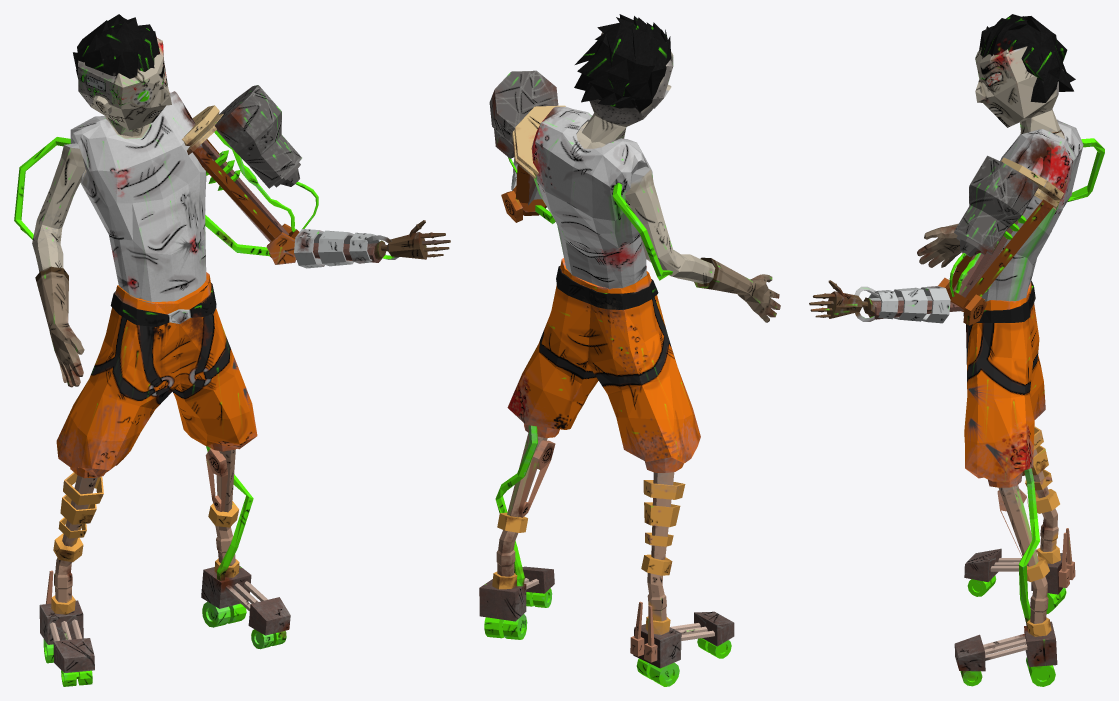
File: CyborgFINALAnimation_000017.obj
The picture shows the model from 3 angles, left to right: view 1: azimuth 30°, elevation 25°; view 2: azimuth 150°, elevation 25°; view 3: azimuth 270°, elevation 25°; orthographic projection. The views are drawn at different scales.
Parts seen in each view (by area): view 1: CyborgMesh_Cube.002; view 2: CyborgMesh_Cube.002; view 3: CyborgMesh_Cube.002.
Part boxes in pixels (x1=…): CyborgMesh_Cube.002: x1=14, y1=14, x2=450, y2=686; CyborgMesh_Cube.002: x1=479, y1=14, x2=780, y2=686; CyborgMesh_Cube.002: x1=809, y1=14, x2=1104, y2=686.
Size of the model in its own units: 4.96 by 9.56 by 4.19.
